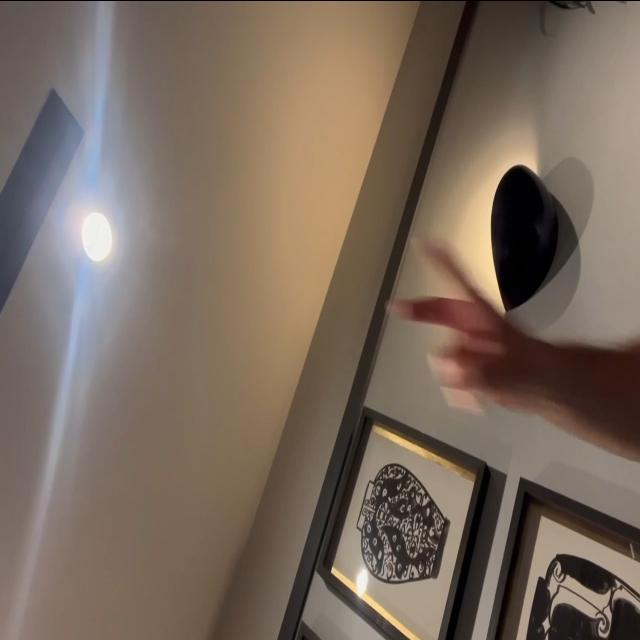Scissors: (388, 233, 529, 414)
